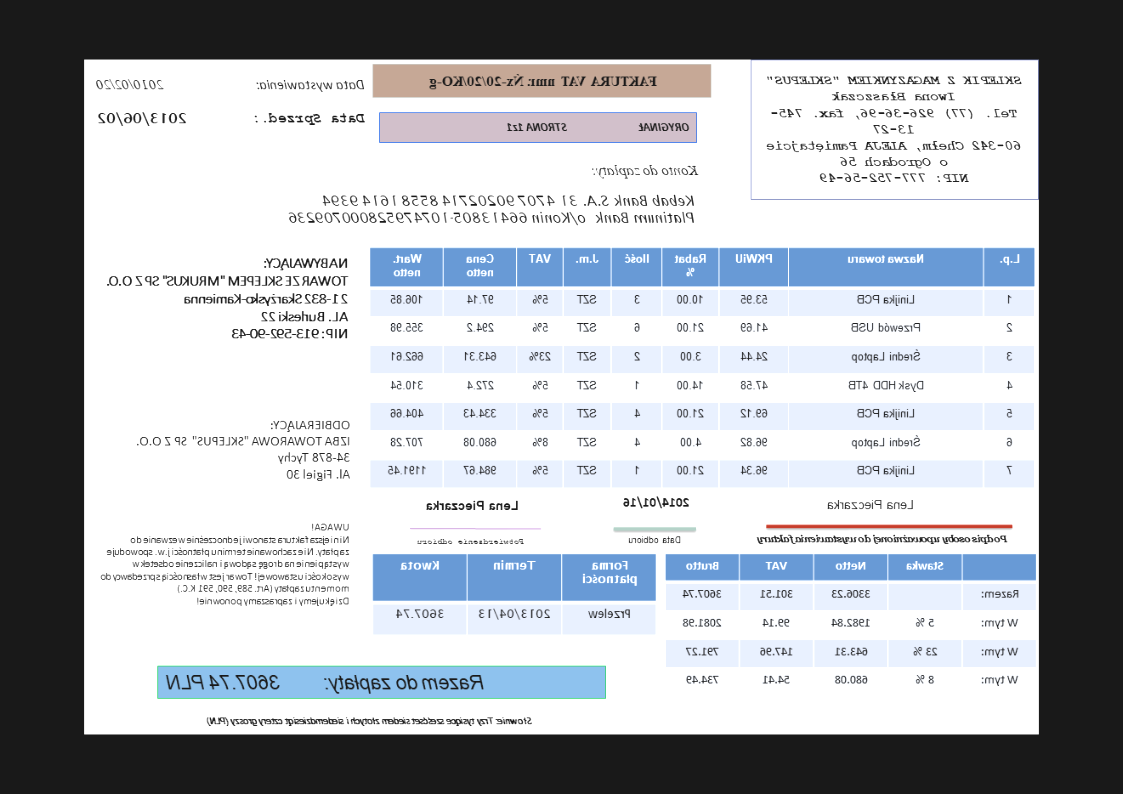Table: (368, 246, 1037, 489), (665, 553, 1038, 698), (371, 553, 657, 636)
TextBox: (763, 70, 1024, 185), (100, 520, 353, 610), (104, 255, 351, 343), (135, 417, 353, 483), (286, 191, 696, 226), (163, 672, 489, 694), (207, 712, 534, 728), (427, 71, 660, 92), (754, 531, 1010, 547), (504, 119, 692, 135), (590, 162, 700, 181), (253, 110, 366, 128), (255, 77, 366, 92), (425, 496, 522, 513), (97, 110, 189, 126), (825, 496, 916, 512), (417, 535, 525, 547), (621, 495, 692, 510), (95, 77, 166, 91), (627, 533, 683, 547)
